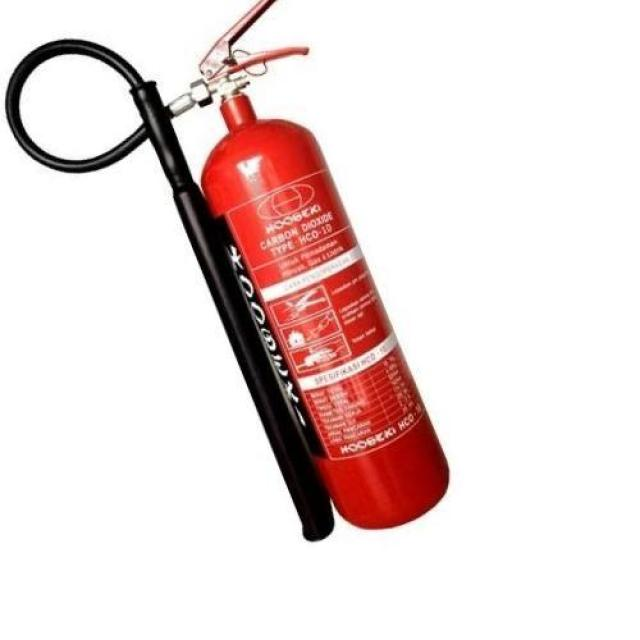fire_extinguisher: (0, 0, 455, 545)
